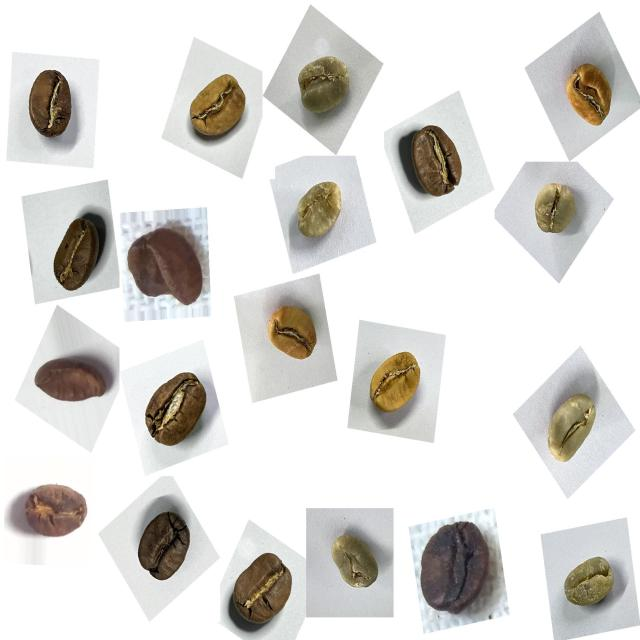bad: (411, 508, 505, 624), (118, 214, 211, 321), (28, 339, 116, 417), (22, 470, 94, 546)
dark: (127, 501, 204, 594)
green: (531, 377, 610, 478), (357, 336, 435, 429), (285, 42, 359, 132), (316, 522, 386, 606), (554, 542, 626, 622), (290, 166, 355, 252), (258, 294, 324, 377), (523, 172, 587, 248)
light: (178, 56, 256, 154), (551, 46, 622, 136)
medium: (131, 360, 217, 456), (224, 543, 306, 640), (398, 115, 479, 212), (41, 207, 116, 303), (17, 62, 87, 151)
